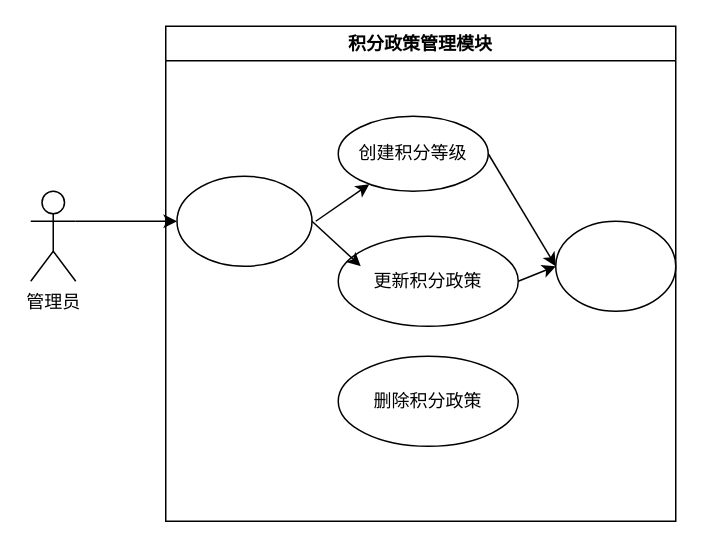
The diagram is 702 pixels wide and 548 high, and some of its shapes have lost their labels. Here are the shapes that lost their labels. From the top down, the centre of each, then its label:
point (244, 220): 打开积分政策管理页面
point (615, 265): 检验积分政策
